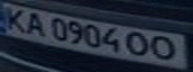0: (45, 16, 69, 43), (81, 22, 103, 50)
4: (100, 26, 124, 53)
9: (63, 19, 84, 46)
A: (21, 10, 48, 38)
K: (0, 4, 33, 33)
O: (148, 34, 187, 62), (124, 29, 154, 58)
